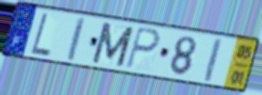8: (168, 35, 199, 77)
I: (203, 36, 224, 84), (66, 15, 87, 63)
L: (29, 11, 52, 59)
M: (89, 21, 136, 69)
P: (125, 25, 162, 71)
